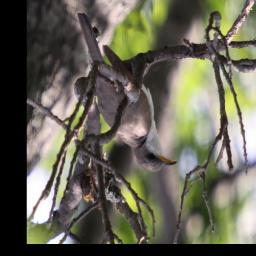Cuckoo: (77, 7, 179, 176)
